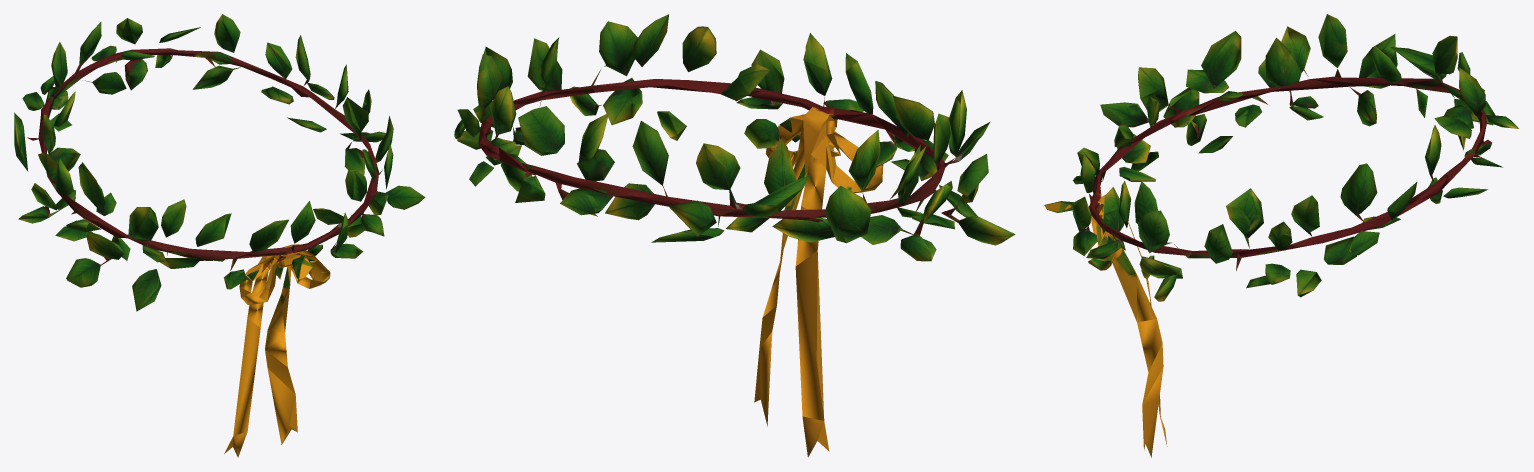
Rendered from modelo.fbx.
The picture shows the model from 3 angles, left to right: view 1: azimuth 30°, elevation 25°; view 2: azimuth 150°, elevation 25°; view 3: azimuth 270°, elevation 25°; orthographic projection. The views are drawn at different scales.
Visible parts, largest first — view 1: Mesh_0; view 2: Mesh_0; view 3: Mesh_0.
Boxes of the visible parts, box(x1,y1,x2,y2) form: Mesh_0: box(14, 14, 425, 457); Mesh_0: box(454, 14, 1015, 457); Mesh_0: box(1044, 14, 1518, 457).
Bounding box in the file's own units: 189 × 172 × 189.
1 material, 1 textured.
